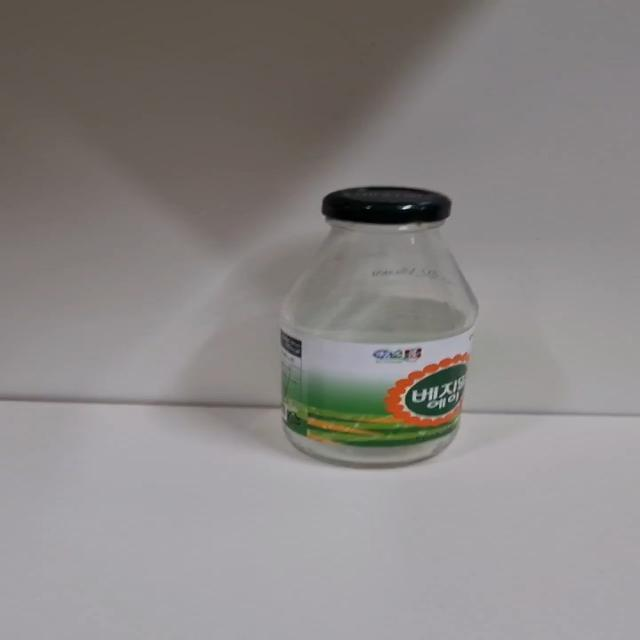Glass: (276, 186, 480, 472)
